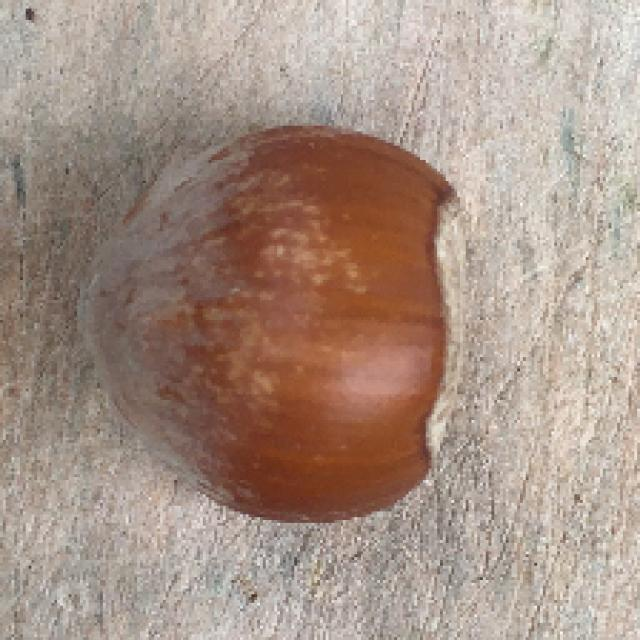QualityHazelnut: (81, 120, 468, 527)
